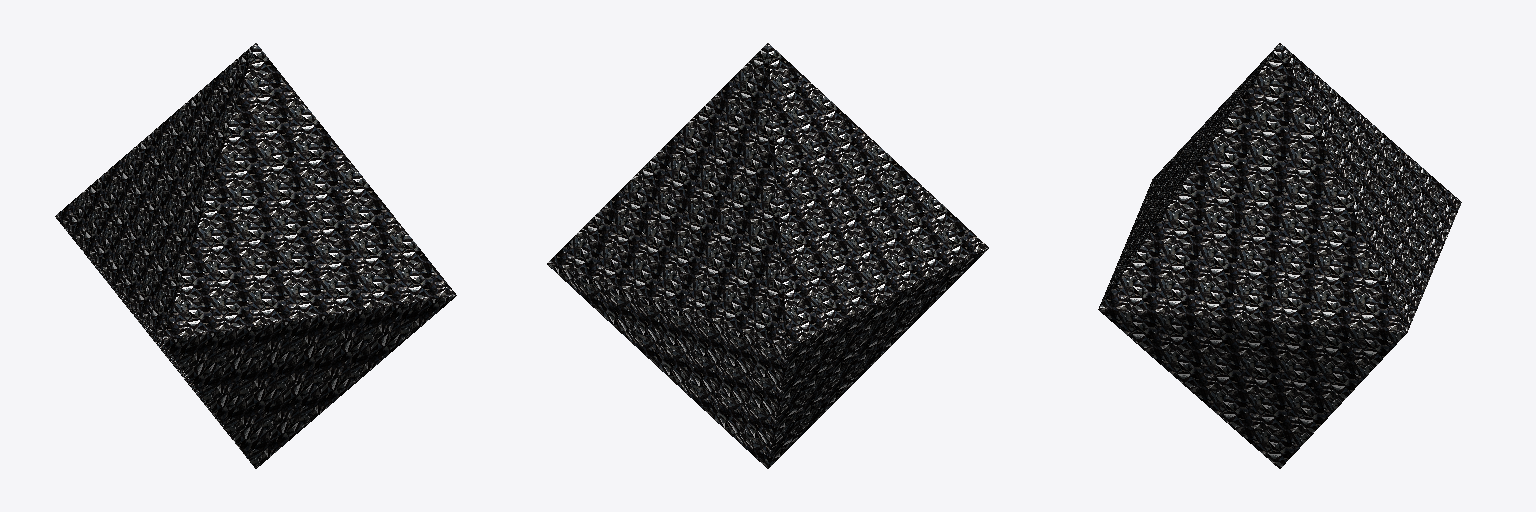
The picture shows the model from 3 angles: view 1: azimuth 30°, elevation 25°; view 2: azimuth 150°, elevation 25°; view 3: azimuth 270°, elevation 25°; orthographic projection.
Visible parts, largest first — view 1: Pyramid001; view 2: Pyramid001; view 3: Pyramid001.
Boxes of the visible parts, x1,y1,x2,y2 form: Pyramid001: [55, 43, 456, 468]; Pyramid001: [547, 43, 988, 468]; Pyramid001: [1098, 43, 1461, 468].
Bounding box in the file's own units: 9.27 × 12 × 9.27.
1 materials, 1 textured.